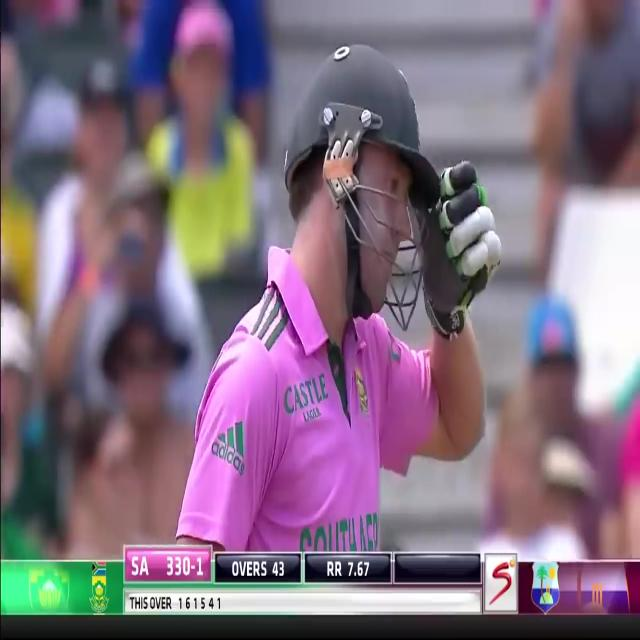Ball: (173, 39, 499, 544)
